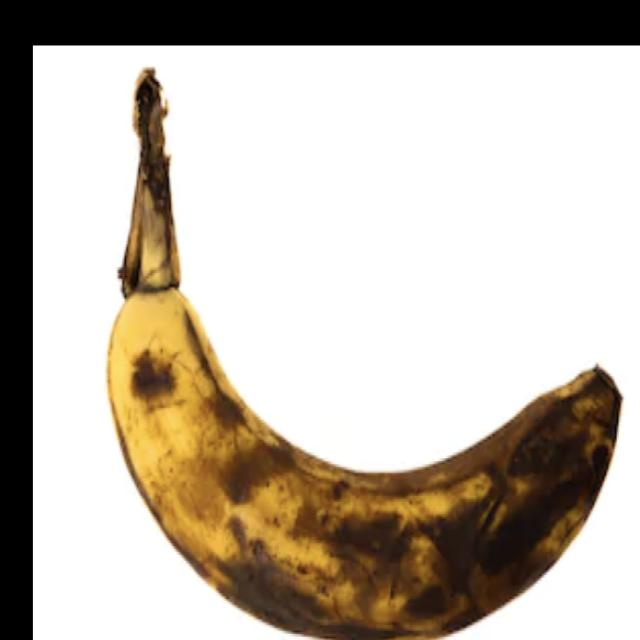Overripe: (75, 59, 629, 640)
